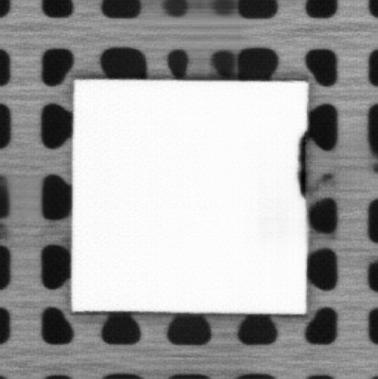DIE_BROKEN: (296, 128, 308, 200)
